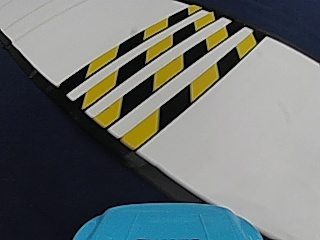bump: (59, 13, 264, 143)
